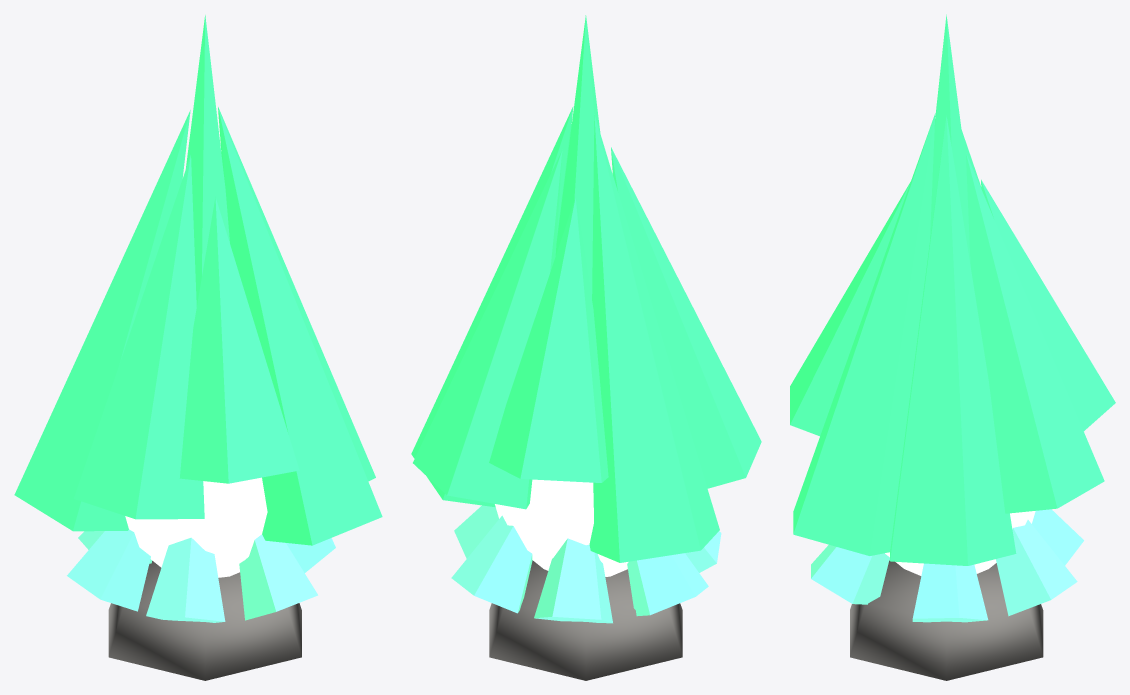
Rendered from splitterkern_gruen.glb.
3 renders of one model, left to right at view 1: azimuth 30°, elevation 25°; view 2: azimuth 150°, elevation 25°; view 3: azimuth 270°, elevation 25°, orthographic.
Visible parts, largest first — view 1: d; view 2: d; view 3: d.
Part boxes in pixels (left/top/right/bottom): d: left=14, top=15, right=382, bottom=680; d: left=411, top=15, right=761, bottom=680; d: left=790, top=14, right=1115, bottom=680.
Size of the model in its own units: 0.1967 by 0.3675 by 0.1752.
